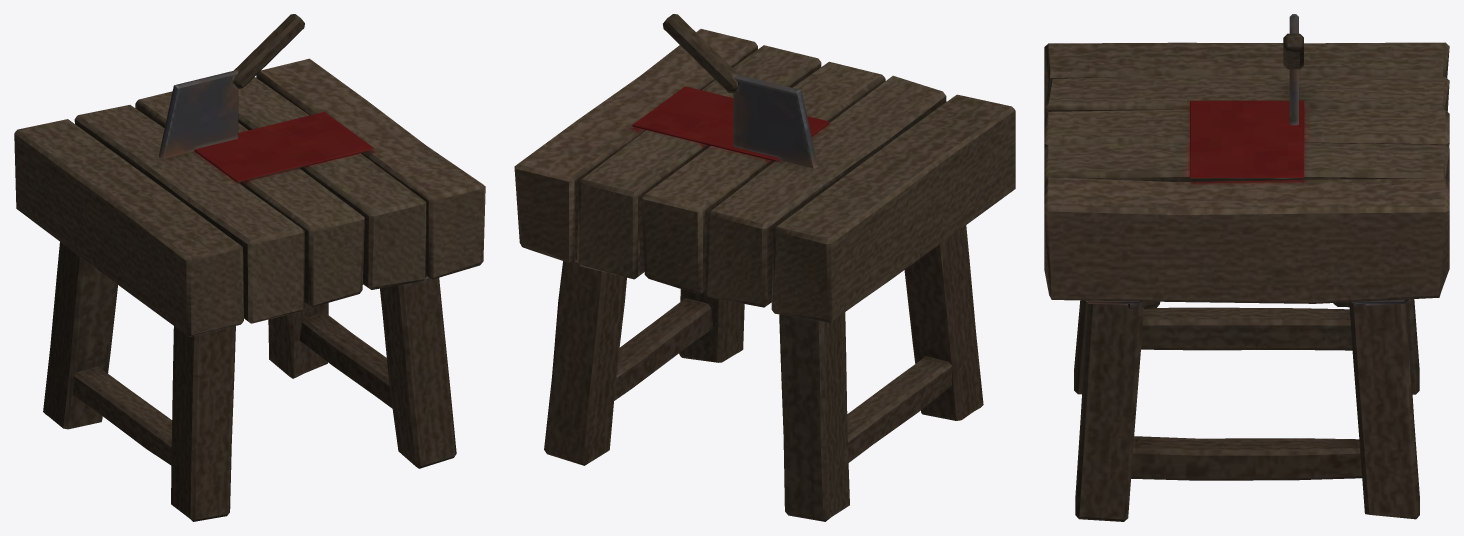
File: butcher_block.glb
3 renders of one model, left to right at view 1: azimuth 30°, elevation 25°; view 2: azimuth 150°, elevation 25°; view 3: azimuth 270°, elevation 25°, orthographic. The views are drawn at different scales.
Parts seen in each view (by area): view 1: butcher_block; view 2: butcher_block; view 3: butcher_block.
Boxes of the visible parts, left/top/right/bottom form: butcher_block: left=14, top=14, right=485, bottom=521; butcher_block: left=514, top=14, right=1015, bottom=521; butcher_block: left=1044, top=14, right=1449, bottom=521.
Size of the model in its own units: 0.7664 by 0.9631 by 0.78.
Materials: 1 (1 with a texture image).
